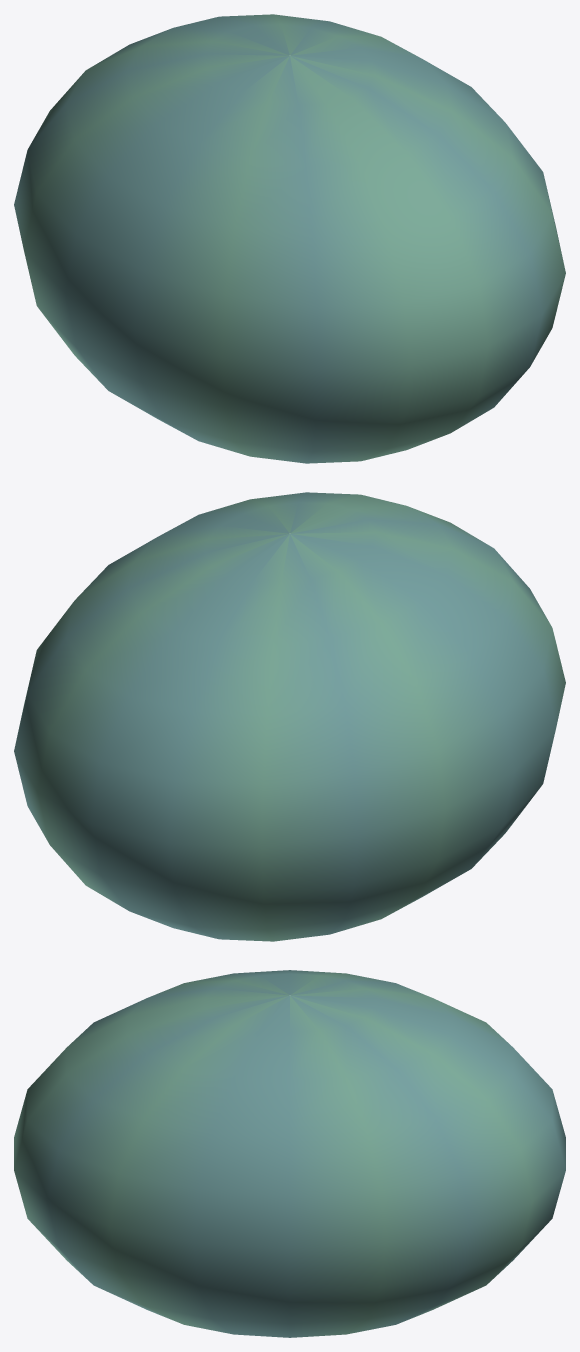
File: fruit-watermelon-chilled.gltf
3 views of the same model, one above another, from view 1: azimuth 30°, elevation 25°; view 2: azimuth 150°, elevation 25°; view 3: azimuth 270°, elevation 25° (orthographic). The views are drawn at different scales.
Size of the model in its own units: 1.1 by 0.858 by 1.35.
